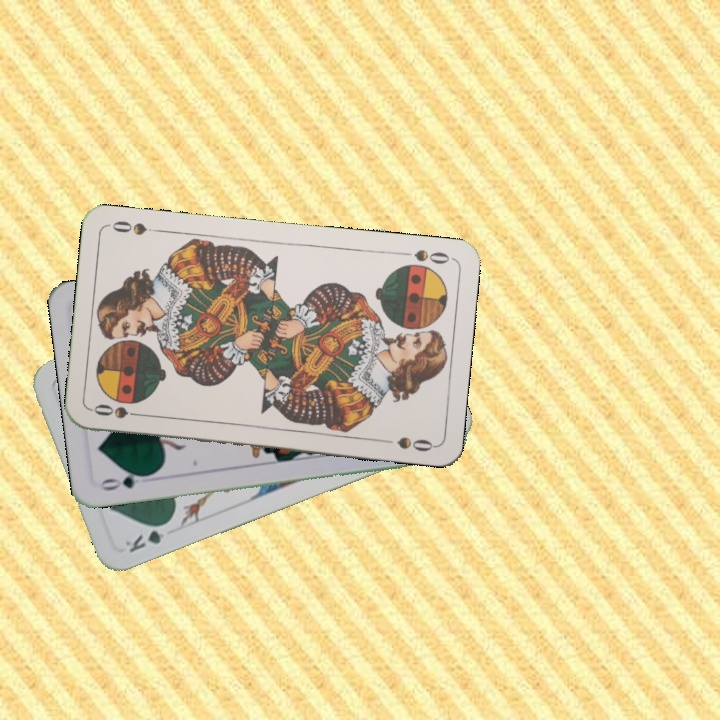GK: (121, 517, 174, 556)
GO: (96, 468, 154, 493)
SO: (89, 399, 148, 421), (395, 245, 454, 267)
